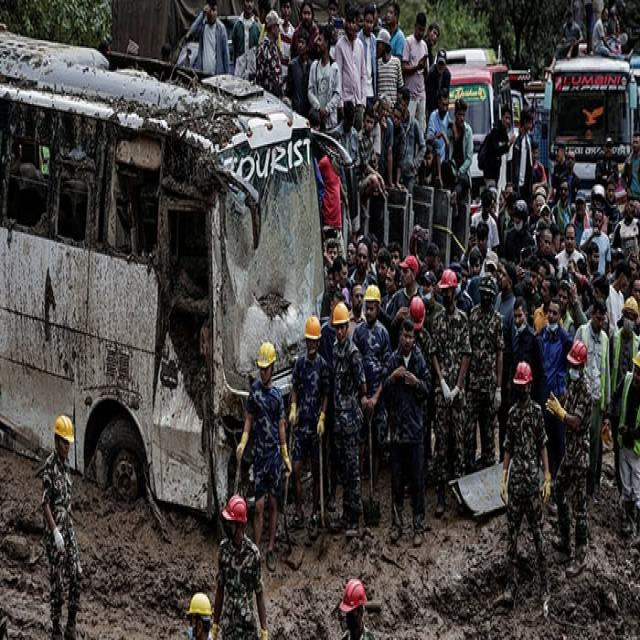Accident: (0, 28, 359, 528)
